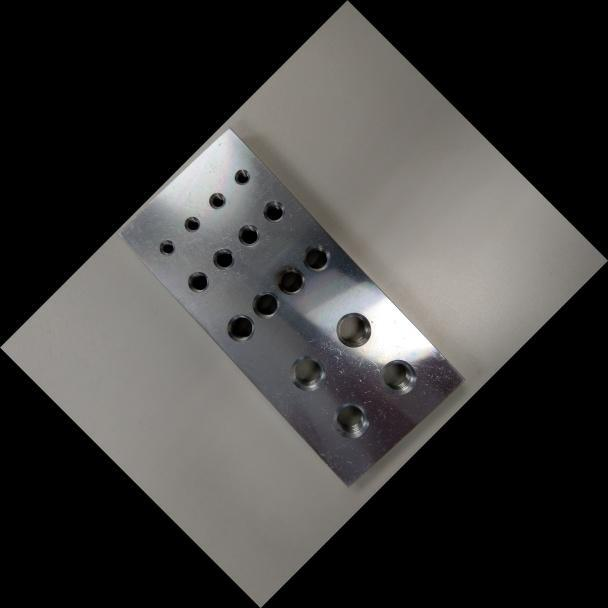hole: (279, 346, 334, 401), (371, 349, 425, 403), (324, 393, 377, 446), (326, 303, 379, 356), (219, 306, 262, 349), (244, 282, 286, 325), (268, 259, 311, 301), (295, 236, 337, 278), (206, 241, 240, 276), (231, 218, 265, 252), (256, 194, 290, 228), (180, 265, 214, 298), (154, 234, 179, 260), (179, 211, 204, 236), (204, 188, 229, 213), (229, 165, 253, 188)
